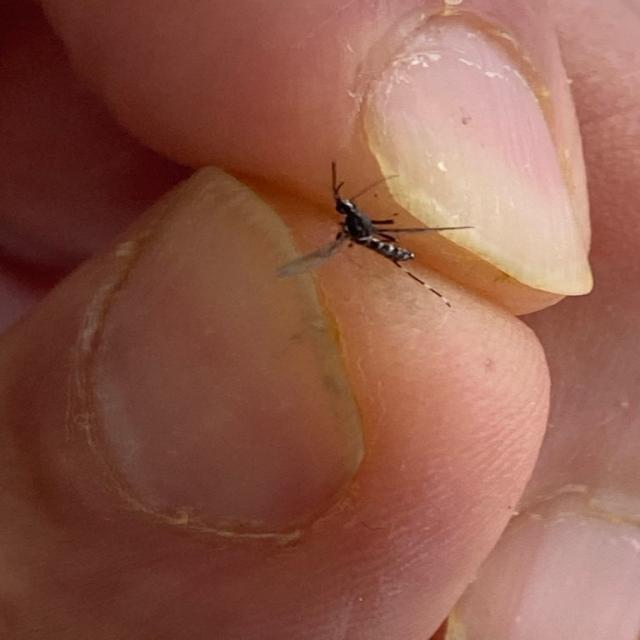albopictus: (267, 152, 475, 310)
